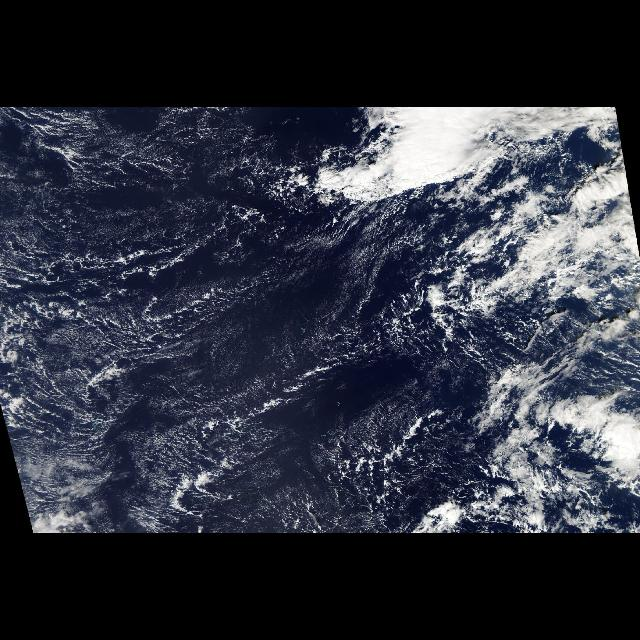Gravel: (306, 278, 496, 528), (4, 233, 228, 384)
Sugar: (3, 109, 297, 518)
